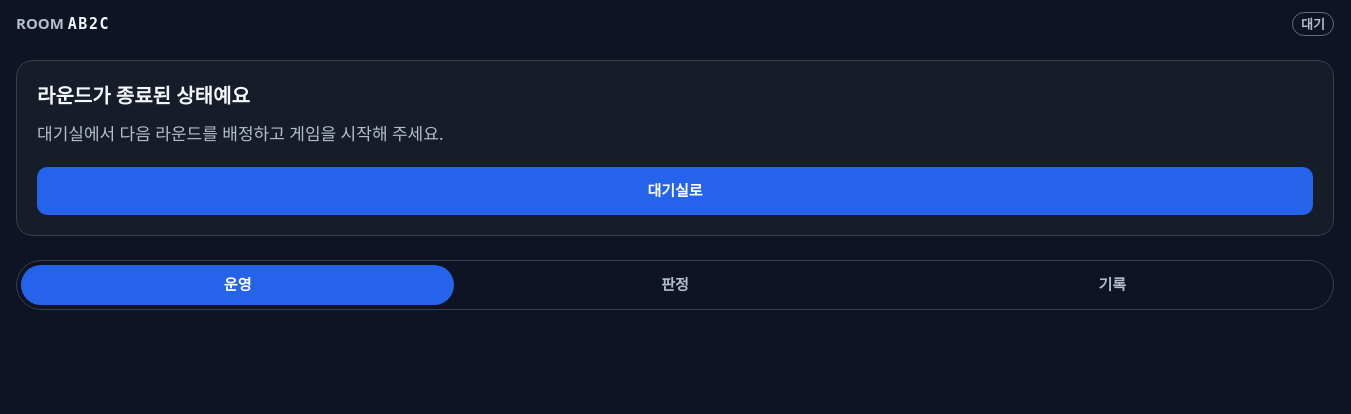
Test: RoundOpsPage › 기록 탭 › 대기(waiting) 상태에서도 지난 라운드 기록을 열람할 수 있다
The width and height of the screenshot is (1351, 414).
Click the radio button labelled "기록": (1112, 285) x1=896 y1=265 x2=1329 y2=305
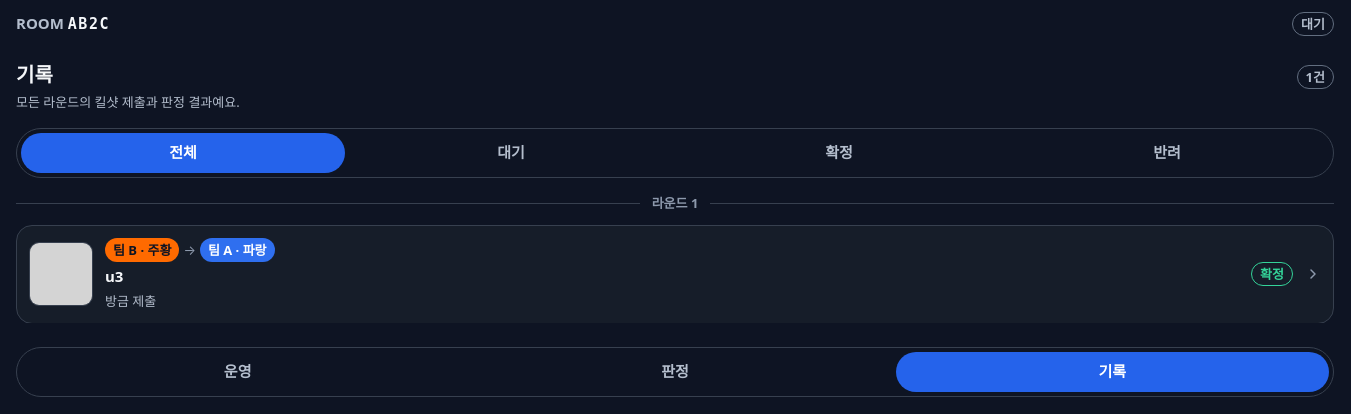
Expected: the button "팀 B · 주황 → 팀 A · 파랑 u3 방금 제출 확정" is shown, x1=16 y1=225 x2=1334 y2=323
